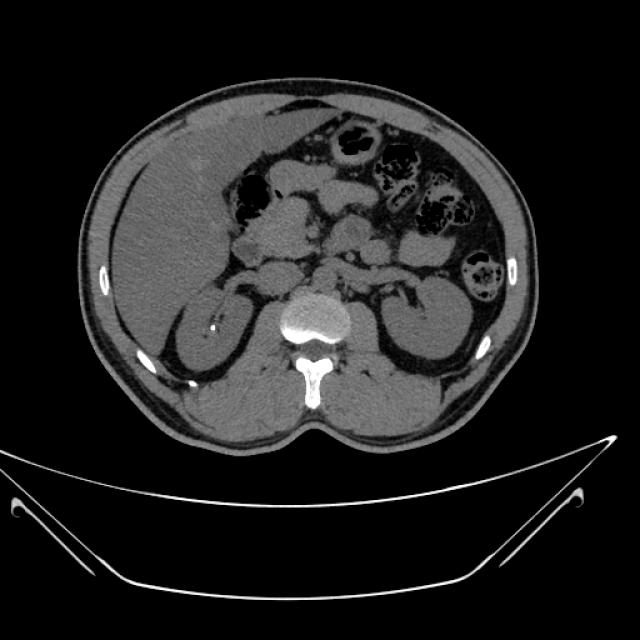kidney: (384, 278, 467, 357), (182, 289, 252, 366)
stone: (210, 324, 216, 331)
